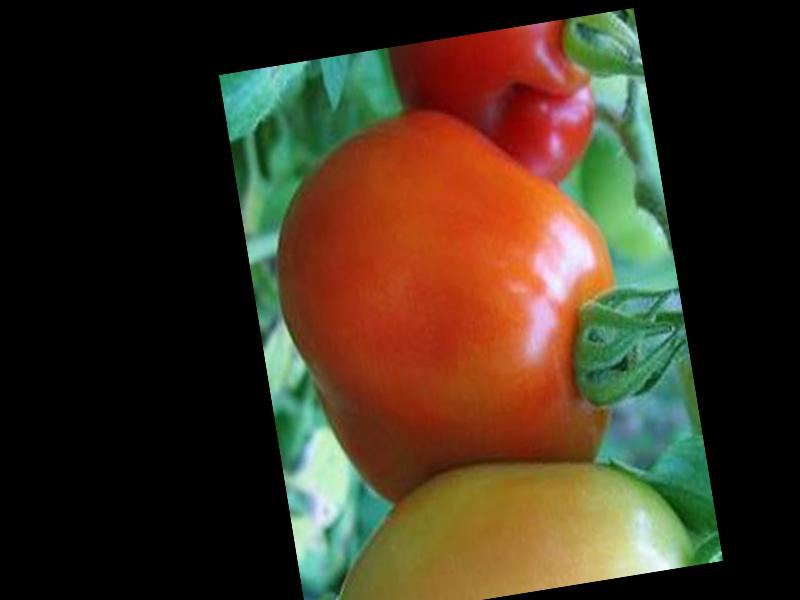Tomato: (254, 83, 640, 498)
